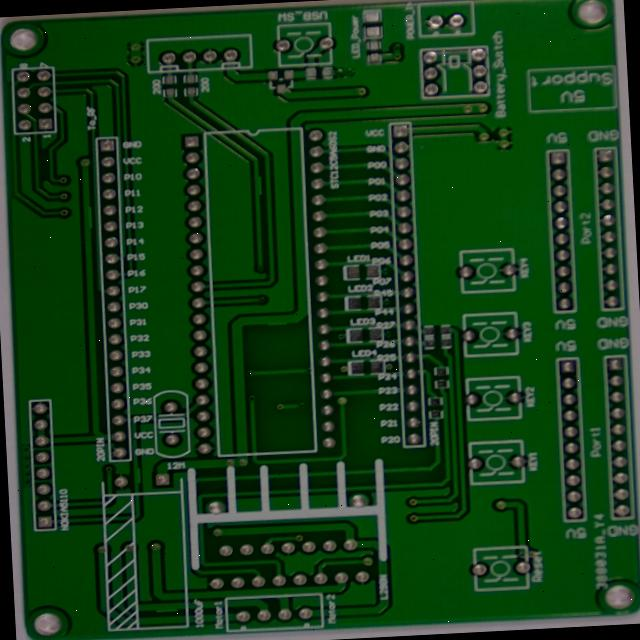spur: (131, 617, 166, 635), (232, 176, 253, 205), (249, 324, 278, 340), (110, 475, 127, 501), (60, 208, 75, 236)
